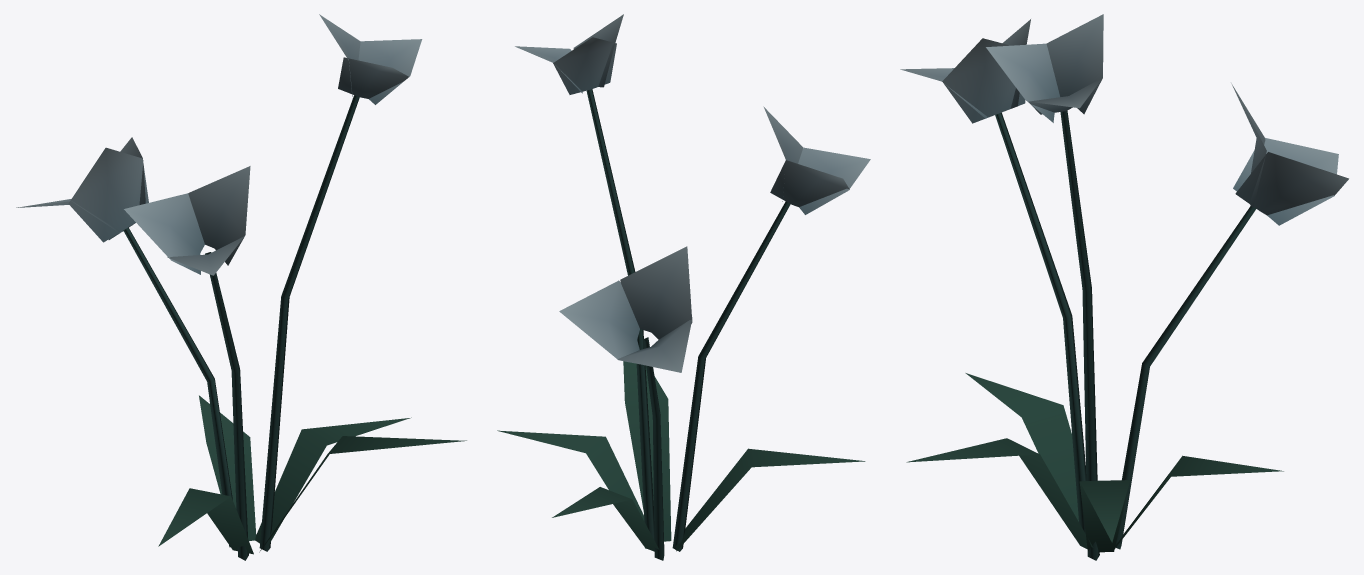
Rendered from flower_lod2.glb.
The picture shows the model from 3 angles, left to right: view 1: azimuth 30°, elevation 25°; view 2: azimuth 150°, elevation 25°; view 3: azimuth 270°, elevation 25°; orthographic projection. The views are drawn at different scales.
Parts seen in each view (by area): view 1: flower_lod2; view 2: flower_lod2; view 3: flower_lod2.
Part boxes in pixels (left/top/right/bottom): flower_lod2: left=16, top=14, right=466, bottom=560; flower_lod2: left=497, top=14, right=870, bottom=560; flower_lod2: left=900, top=14, right=1348, bottom=560.
Bounding box in the file's own units: 1.11 × 1.69 × 1.2.
